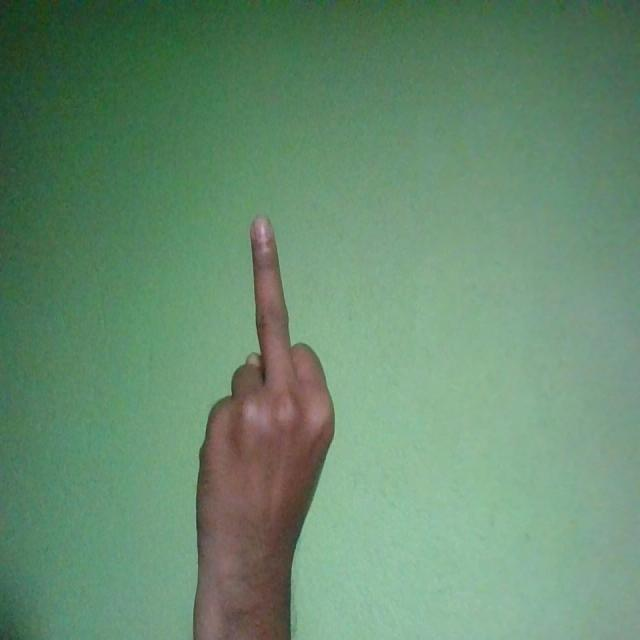Middle Finger: (196, 213, 336, 635)
